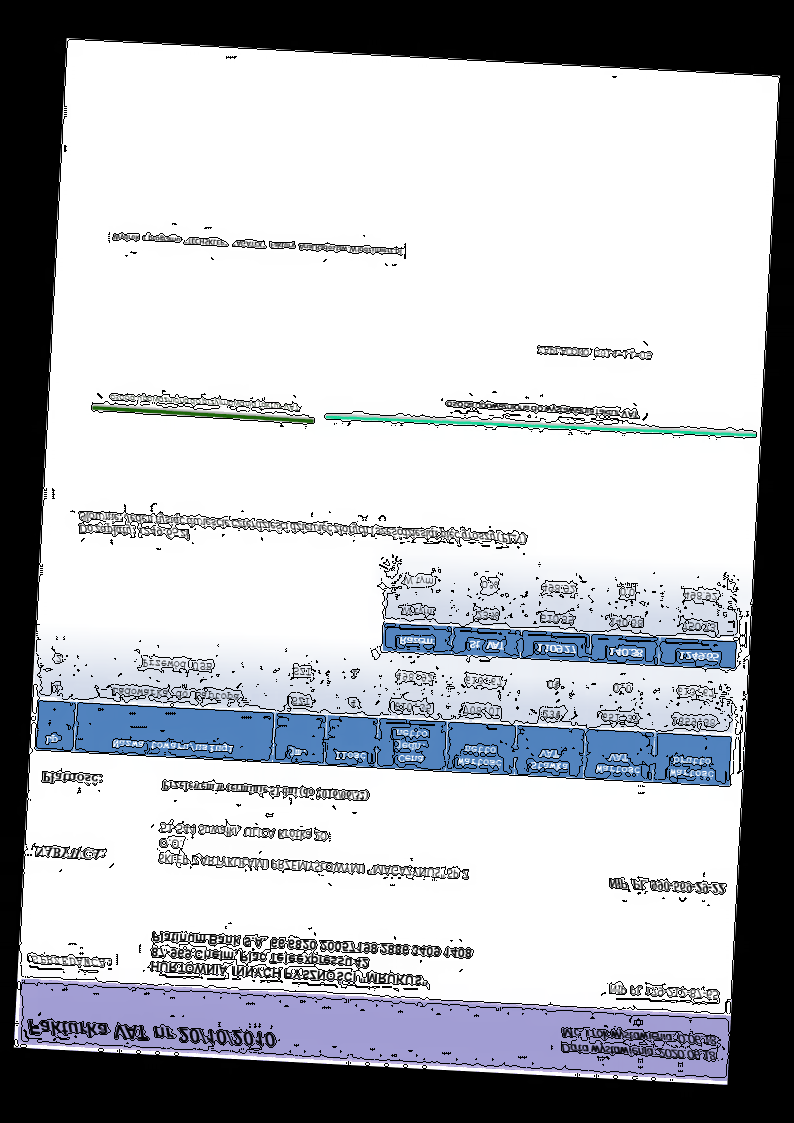Table: (33, 636, 736, 789), (380, 560, 741, 672)
TextBox: (75, 506, 529, 561), (147, 927, 475, 993), (158, 820, 471, 882), (24, 1016, 278, 1050), (110, 231, 406, 260), (557, 1026, 723, 1065), (160, 778, 370, 804), (107, 390, 302, 415), (442, 398, 640, 421), (607, 875, 725, 898), (605, 981, 719, 1004), (535, 344, 653, 363), (27, 953, 114, 972), (33, 844, 106, 863), (41, 770, 104, 789)
